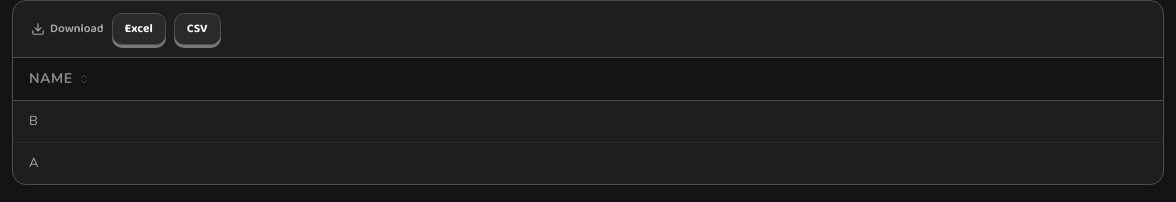
the current order is announced to a screen reader
Later steps or results of the test are not shown.
Click the button "Name" at (51, 78), box 13,58 -> 1163,100
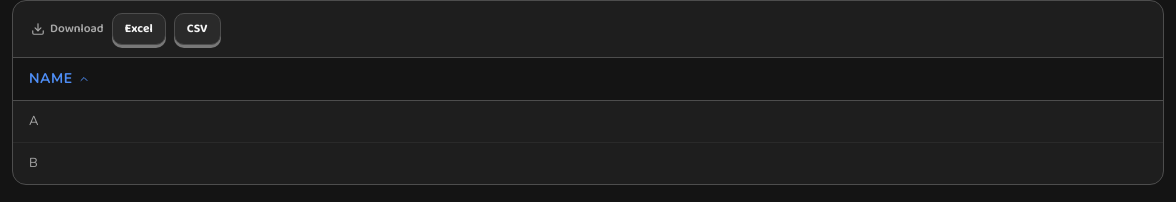
Expected: the column heading has attribute aria-sort="ascending", 13,58 -> 1163,101
